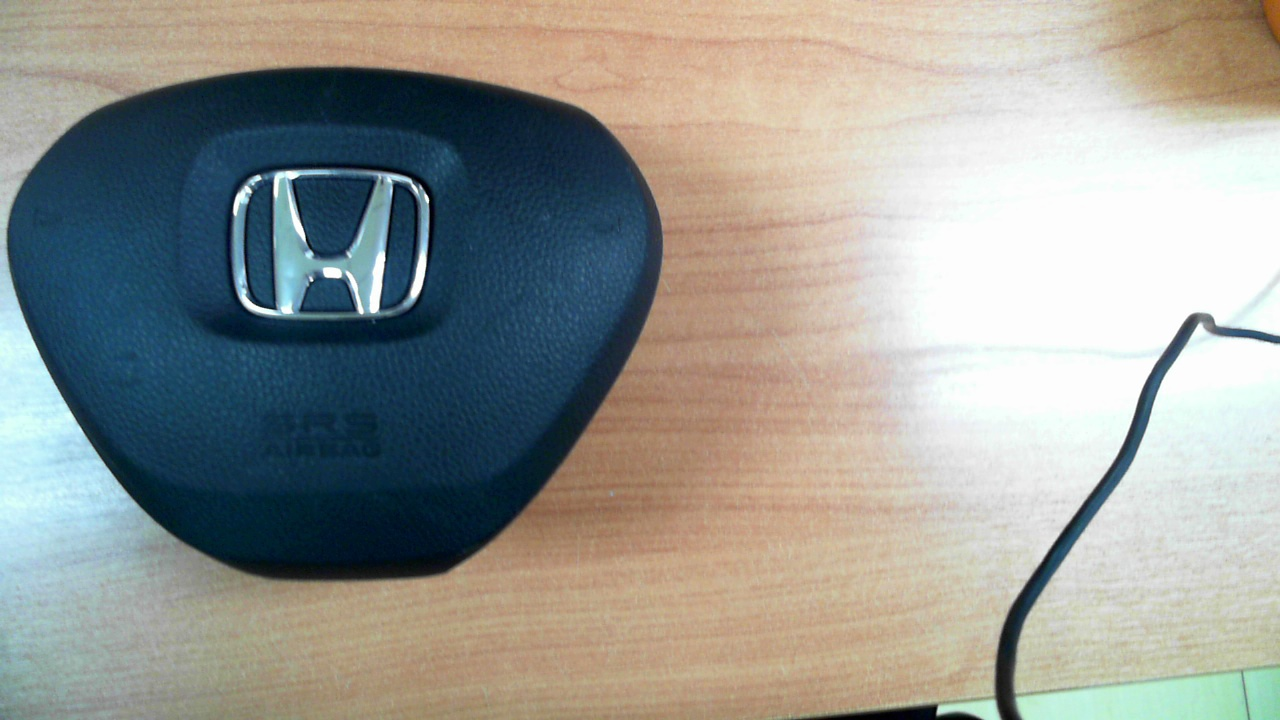Airbag: (6, 66, 664, 581)
Honda: (230, 167, 431, 321)
